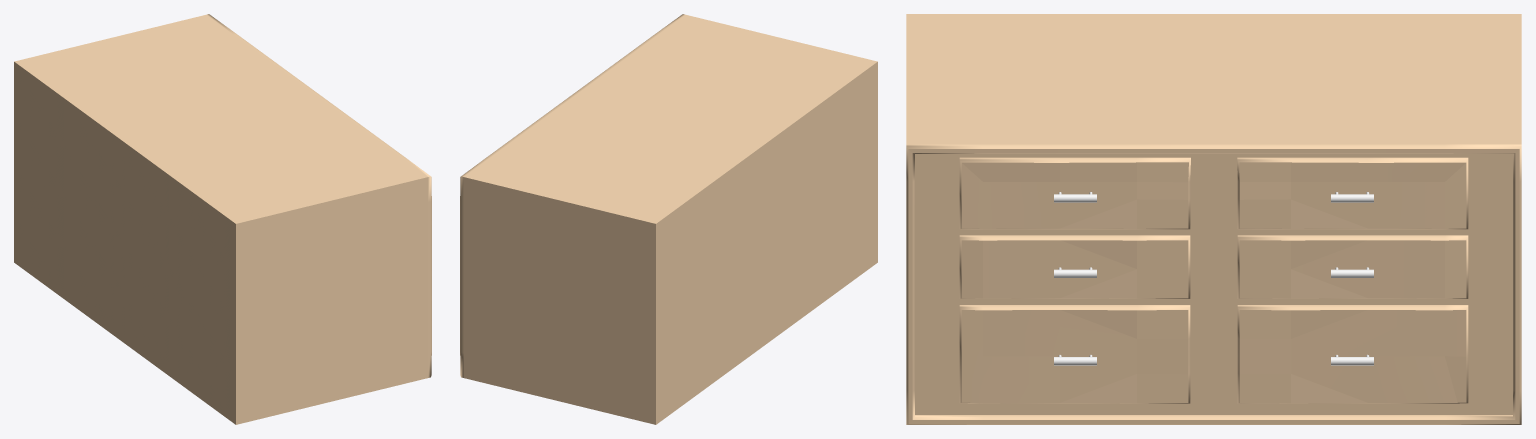
The model's file is dresser2.glb.
3 views of the same model, side by side, from view 1: azimuth 30°, elevation 25°; view 2: azimuth 150°, elevation 25°; view 3: azimuth 270°, elevation 25° (orthographic). The views are drawn at different scales.
Parts seen in each view (by area): view 1: Dresser; view 2: Dresser; view 3: Dresser, Bottom_left, Bottom_Right, Top_Left, top_right, middle_left, Middle_right.
Boxes of the visible parts, bbox=[...] form: Dresser: bbox=[14, 14, 431, 424]; Dresser: bbox=[460, 14, 877, 424]; Dresser: bbox=[906, 14, 1521, 424]; Bottom_left: bbox=[959, 305, 1190, 403]; Bottom_Right: bbox=[1237, 305, 1468, 403]; Top_Left: bbox=[959, 157, 1190, 229]; top_right: bbox=[1237, 157, 1468, 229]; middle_left: bbox=[959, 235, 1190, 298]; Middle_right: bbox=[1237, 235, 1468, 298].
Size of the model in its own units: 2.15 by 2.06 by 4.
